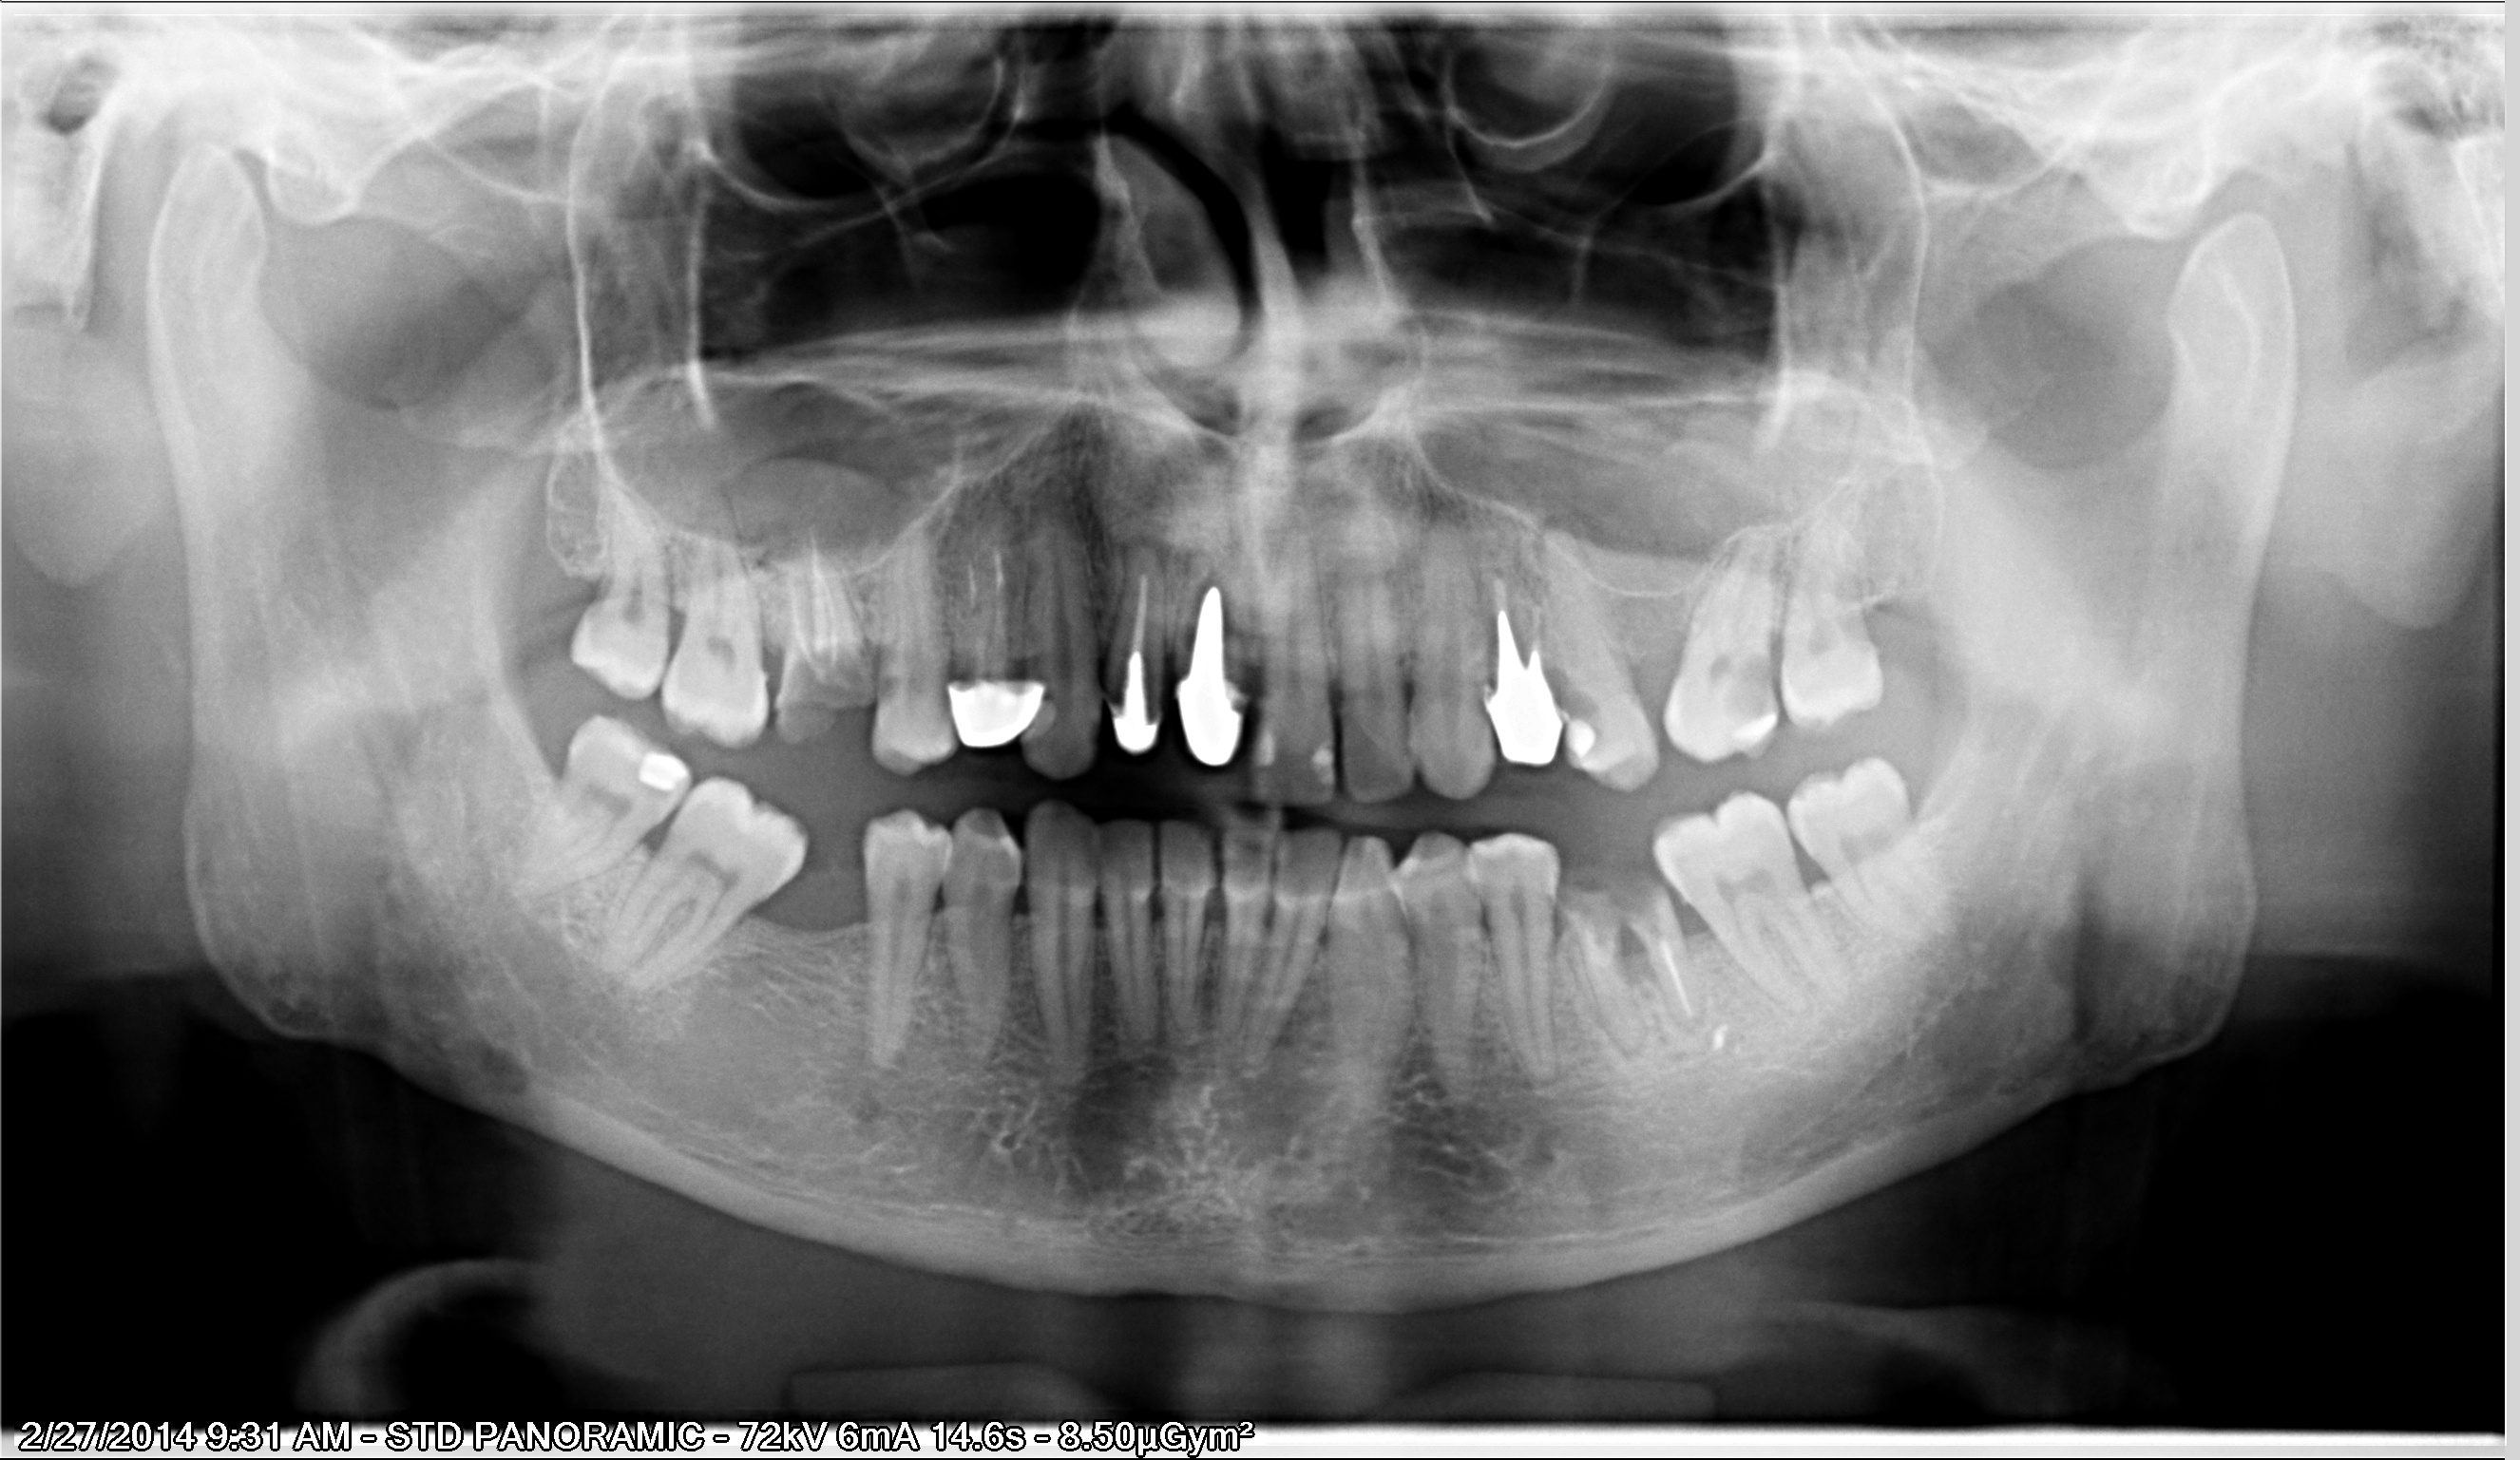CAR: (758, 629, 879, 753), (1554, 855, 1679, 949), (1714, 629, 1802, 727), (1547, 652, 1609, 733), (852, 660, 919, 720)
END: (1102, 535, 1187, 681), (952, 514, 1032, 667), (779, 516, 867, 650), (1648, 940, 1728, 1039), (1470, 547, 1531, 662)
FUR: (1587, 906, 1672, 989)
OBT: (1286, 709, 1359, 798), (1222, 720, 1295, 784), (634, 730, 690, 806), (1559, 711, 1620, 768)
PRR: (1157, 615, 1260, 786), (933, 654, 1046, 768), (1482, 640, 1561, 791), (1091, 652, 1170, 772)
